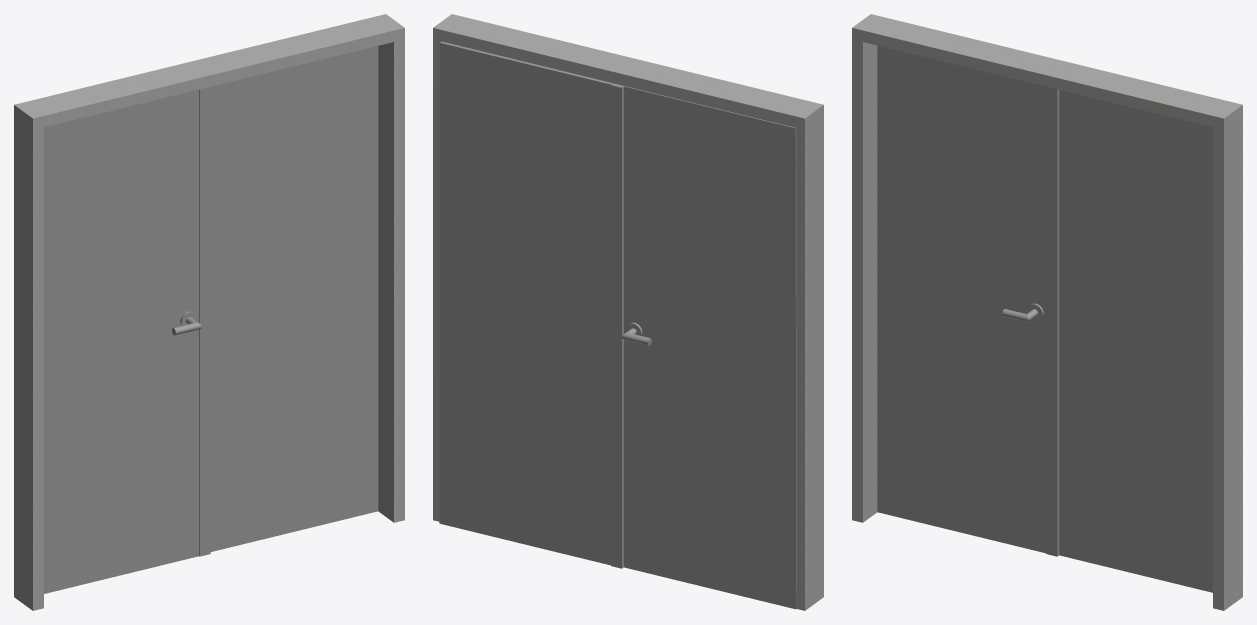
File: door_160_metal_close.dae
3 renders of one model, left to right at view 1: azimuth 30°, elevation 25°; view 2: azimuth 150°, elevation 25°; view 3: azimuth 330°, elevation 25°, orthographic.
Parts seen in each view (by area): view 1: dvere_80_bezkliky, dvere_80_sklikou, futra_160; view 2: dvere_80_sklikou, dvere_80_bezkliky, futra_160; view 3: dvere_80_sklikou, dvere_80_bezkliky, futra_160.
Boxes of the visible parts, x1=… form: dvere_80_bezkliky: x1=199, y1=46, x2=378, y2=556; dvere_80_sklikou: x1=44, y1=89, x2=201, y2=593; futra_160: x1=14, y1=14, x2=404, y2=610; dvere_80_sklikou: x1=611, y1=84, x2=796, y2=609; dvere_80_bezkliky: x1=439, y1=41, x2=618, y2=565; futra_160: x1=433, y1=14, x2=823, y2=610; dvere_80_sklikou: x1=877, y1=45, x2=1046, y2=553; dvere_80_bezkliky: x1=1046, y1=87, x2=1212, y2=592; futra_160: x1=852, y1=14, x2=1242, y2=610.
Size of the model in its own units: 1.7 by 0.231 by 2.15.
4 materials, 1 textured.
